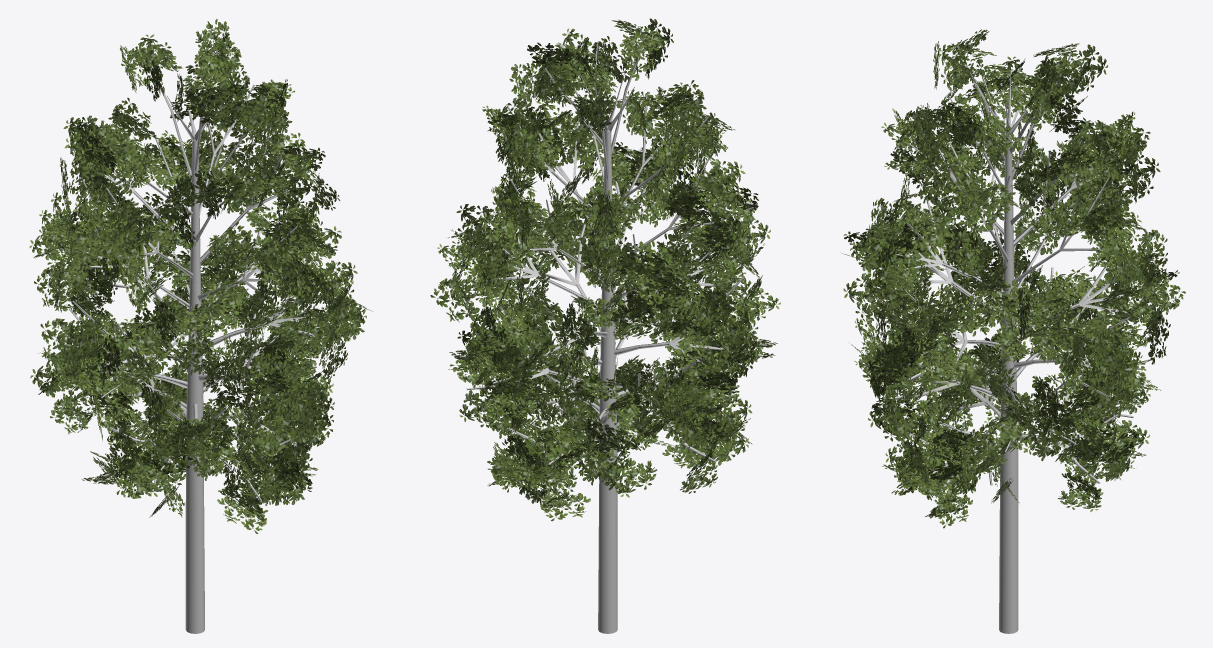
File: Sassafras_Model_0.obj
The picture shows the model from 3 angles, left to right: view 1: azimuth 30°, elevation 25°; view 2: azimuth 150°, elevation 25°; view 3: azimuth 270°, elevation 25°; orthographic projection.
Visible parts, largest first — view 1: Foliage__leafcard, Bark; view 2: Foliage__leafcard, Bark; view 3: Foliage__leafcard, Bark.
Part boxes in pixels (bbox=[...]): Foliage__leafcard: bbox=[29, 19, 372, 533]; Bark: bbox=[65, 49, 316, 633]; Foliage__leafcard: bbox=[430, 18, 780, 521]; Bark: bbox=[453, 34, 771, 633]; Foliage__leafcard: bbox=[842, 29, 1185, 528]; Bark: bbox=[878, 45, 1143, 633].
Size of the model in its own units: 7.53 by 13.5 by 7.61.
